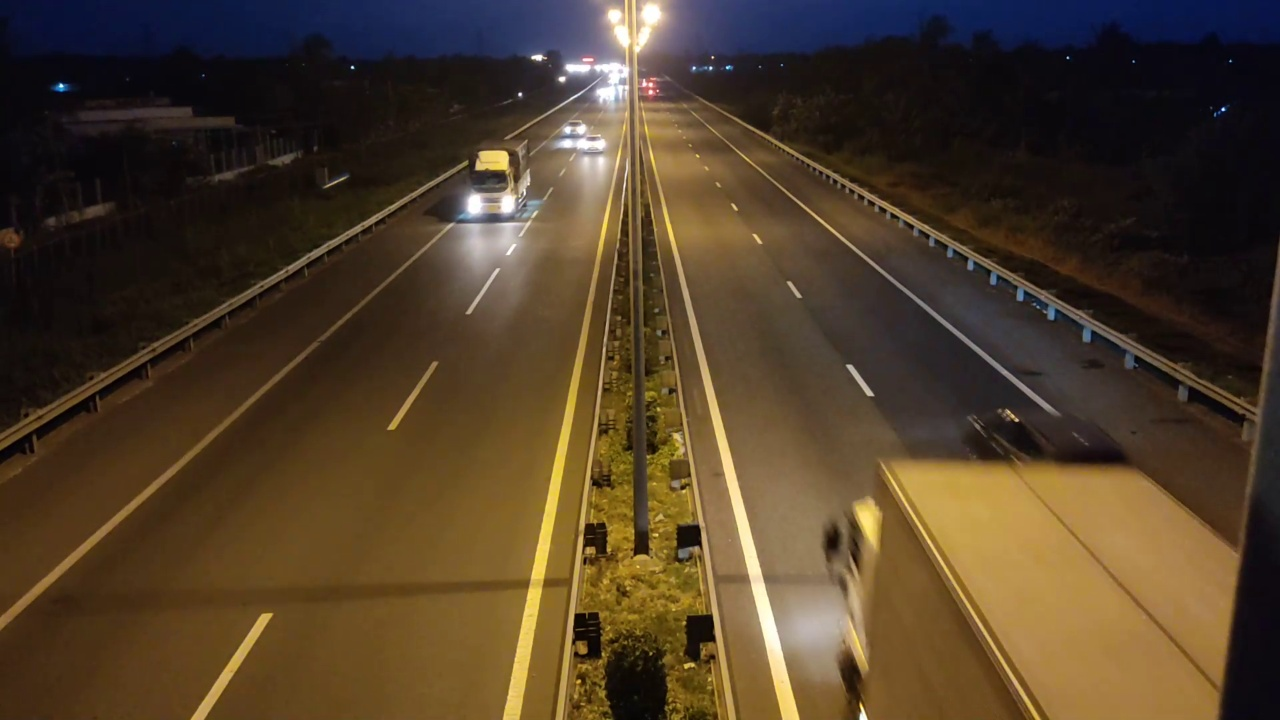truck: (464, 136, 531, 221)
